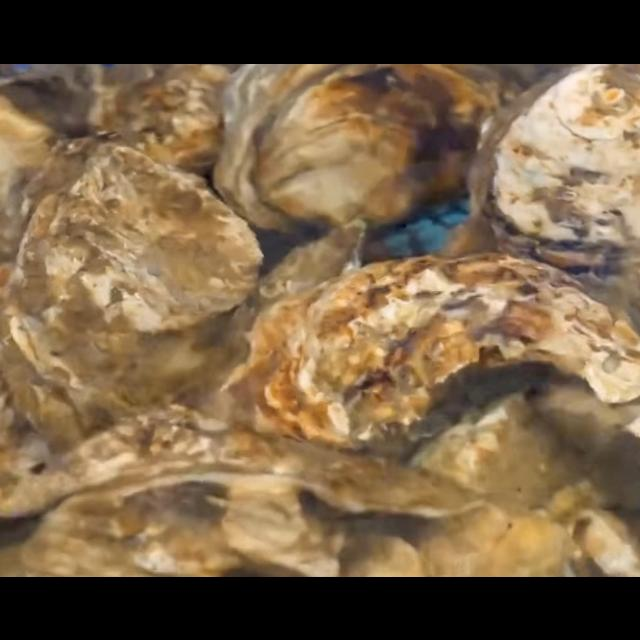Oyster-Closed: (222, 250, 640, 452), (0, 134, 264, 453), (350, 392, 640, 576), (211, 64, 495, 242), (462, 63, 640, 297), (68, 63, 230, 171)
Oyster-Open: (0, 404, 484, 576)
